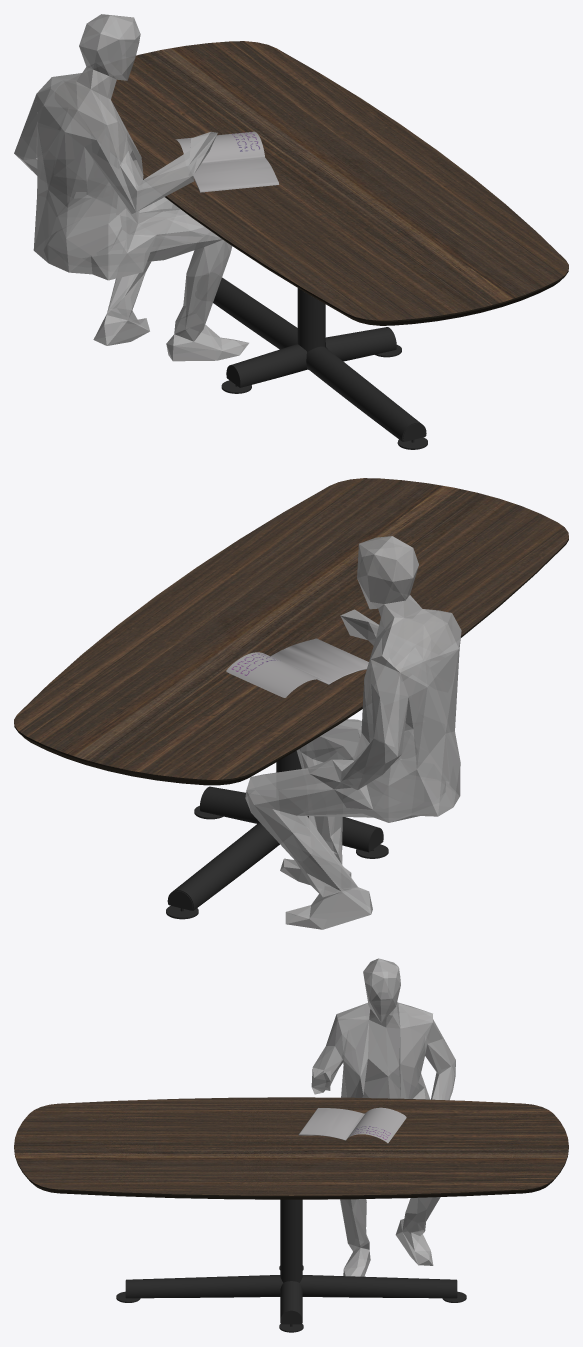
3 views of the same model, one above another, from view 1: azimuth 30°, elevation 25°; view 2: azimuth 150°, elevation 25°; view 3: azimuth 270°, elevation 25° (orthographic). The views are drawn at different scales.
Visible parts, largest first — view 1: Broers_Design_Nederland_1, Broers_Design_Nederland_2, Broers_Design_Nederland_3, Broers_Design_Nederland; view 2: Broers_Design_Nederland_1, Broers_Design_Nederland_2, Broers_Design_Nederland_3, Broers_Design_Nederland; view 3: Broers_Design_Nederland_1, Broers_Design_Nederland_2, Broers_Design_Nederland_3, Broers_Design_Nederland.
Boxes of the visible parts, x1,y1,x2,y2 form: Broers_Design_Nederland_1: (111, 41, 568, 325); Broers_Design_Nederland_2: (14, 14, 248, 361); Broers_Design_Nederland_3: (213, 277, 427, 449); Broers_Design_Nederland: (175, 131, 279, 192); Broers_Design_Nederland_1: (14, 478, 568, 785); Broers_Design_Nederland_2: (245, 536, 461, 929); Broers_Design_Nederland_3: (166, 751, 388, 919); Broers_Design_Nederland: (226, 638, 368, 697); Broers_Design_Nederland_1: (14, 1097, 568, 1199); Broers_Design_Nederland_2: (311, 958, 455, 1276); Broers_Design_Nederland_3: (116, 1199, 466, 1332); Broers_Design_Nederland: (298, 1107, 406, 1143).
Size of the model in its own units: 1.39 by 1.4 by 2.5.
Materials: 4 (3 with a texture image).
